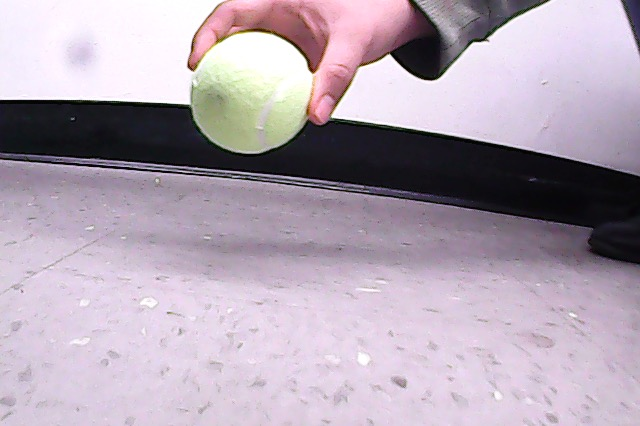ball: (191, 30, 316, 155)
